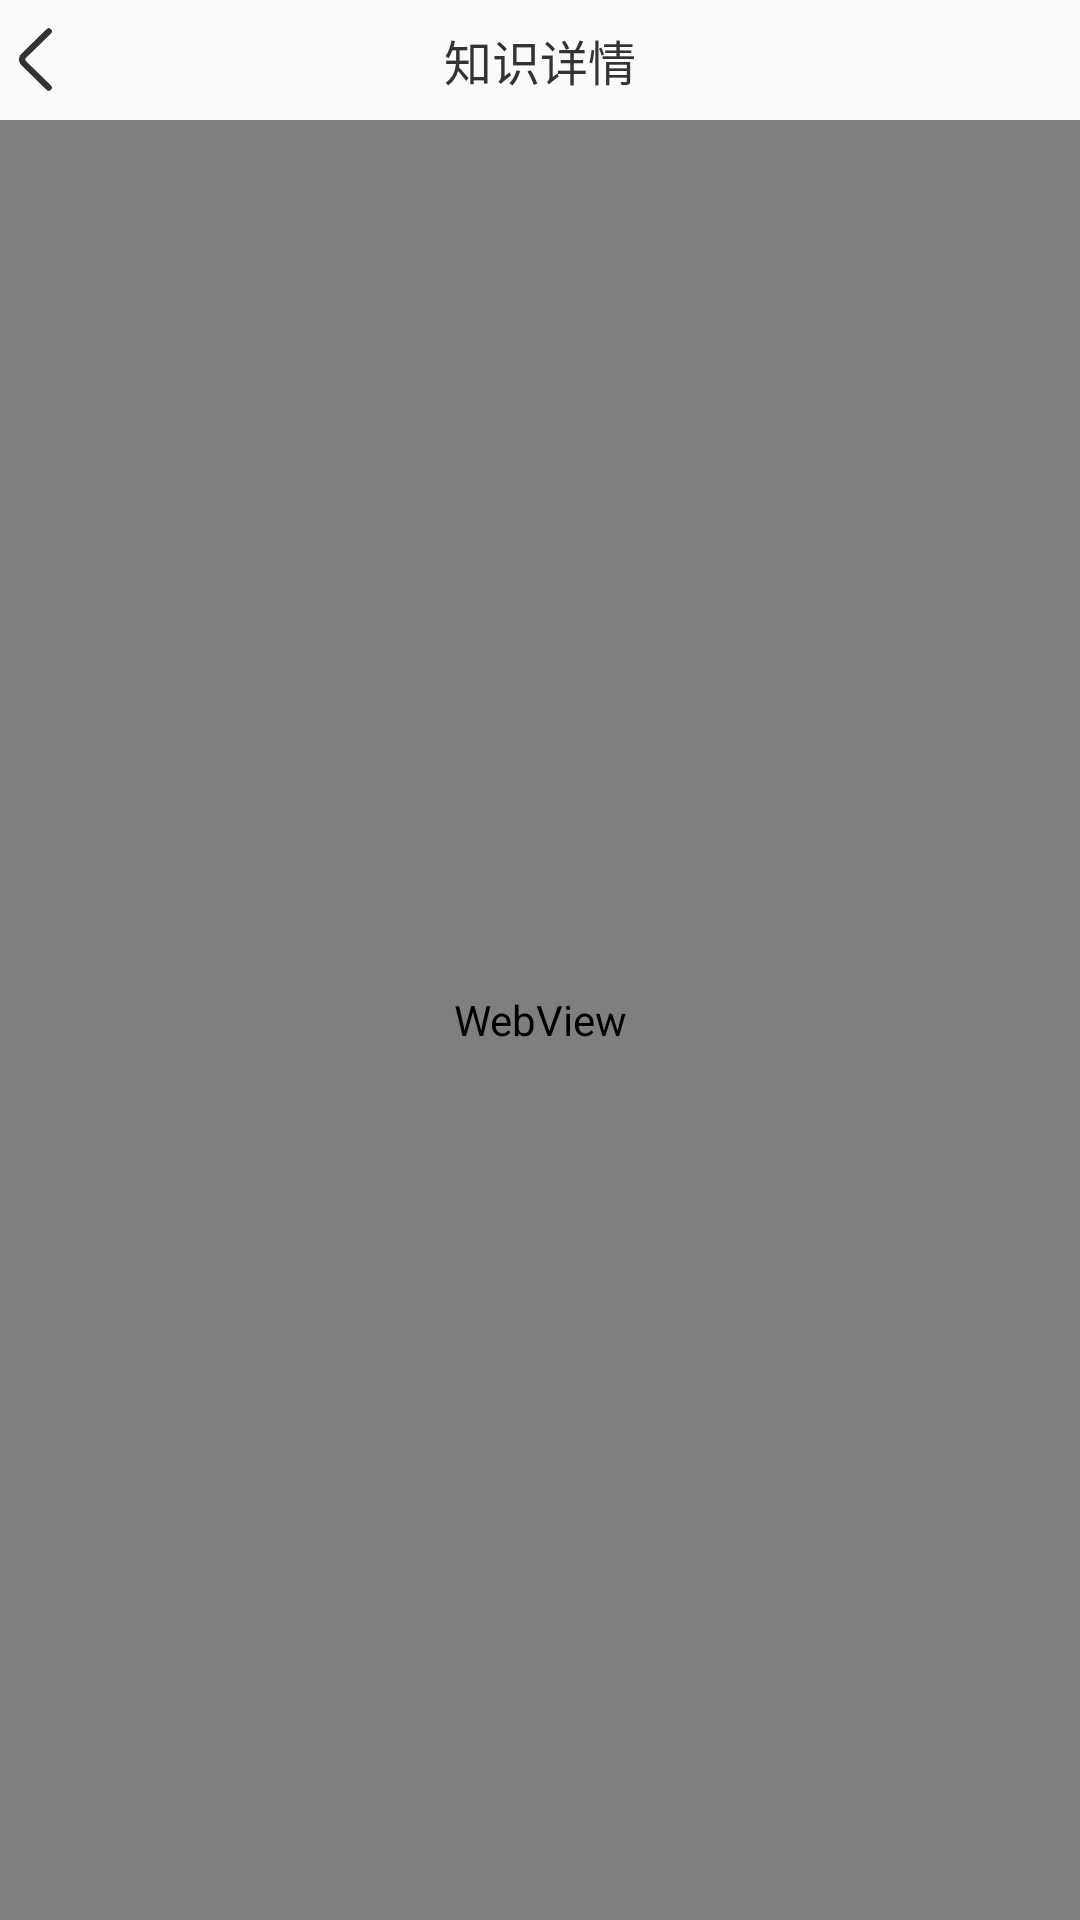

Where to tap for icons on this 1080 x 1920 app screen, as (x=x, y=y):
back: (x=35, y=59)
